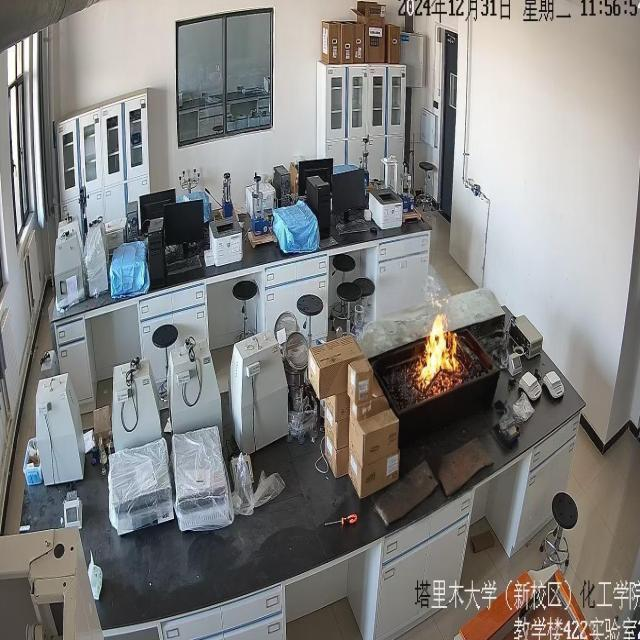smoke: (412, 304, 462, 391)
